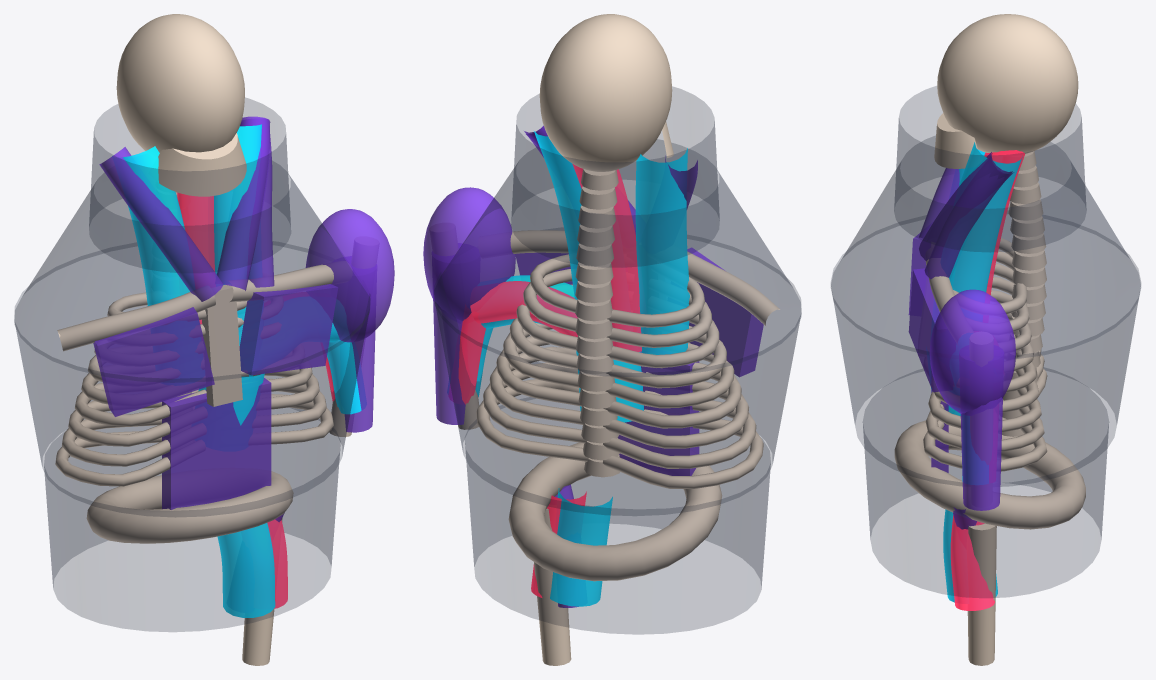
File: atlas_male.glb
The picture shows the model from 3 angles, left to right: view 1: azimuth 30°, elevation 25°; view 2: azimuth 150°, elevation 25°; view 3: azimuth 270°, elevation 25°; orthographic projection. The views are drawn at different scales.
Parts seen in each view (by area): view 1: Skin_Mid_Torso, Skin_Upper_Torso, Skin_Lower_Torso, Skin_Neck, Bone_Cranium, Muscle_Rectus_Abdominis, Bone_Pelvis, Muscle_Pectoralis_Major_Left, Muscle_Deltoid_Right, Muscle_Pectoralis_Major_Right, Muscle_SCM_Left_Sternal, Vessel_Femoral_Vein_Right (+24 smaller); view 2: Skin_Upper_Torso, Skin_Mid_Torso, Skin_Lower_Torso, Skin_Neck, Bone_Cranium, Bone_Pelvis, Muscle_Deltoid_Right, Vessel_IJV_Left, Vessel_Femoral_Vein_Right, Vessel_Carotid_Right, Muscle_Pectoralis_Major_Left, Muscle_Biceps_Right (+44 smaller); view 3: Skin_Mid_Torso, Skin_Upper_Torso, Skin_Lower_Torso, Skin_Neck, Bone_Cranium, Muscle_Deltoid_Right, Bone_Pelvis, Muscle_Biceps_Right, Vessel_IJV_Right, Muscle_SCM_Right_Clavicular, Bone_Femur_Right, Vessel_Femoral_Artery_Right (+19 smaller).
Boxes of the visible parts, left/top/right/bottom form: Skin_Mid_Torso: left=14, top=246, right=370, bottom=517; Skin_Upper_Torso: left=14, top=173, right=369, bottom=382; Skin_Lower_Torso: left=44, top=408, right=340, bottom=631; Skin_Neck: left=89, top=98, right=290, bottom=272; Bone_Cranium: left=116, top=14, right=244, bottom=153; Muscle_Rectus_Abdominis: left=162, top=378, right=271, bottom=509; Bone_Pelvis: left=86, top=471, right=293, bottom=543; Muscle_Pectoralis_Major_Left: left=93, top=307, right=214, bottom=416; Muscle_Deltoid_Right: left=305, top=209, right=394, bottom=342; Muscle_Pectoralis_Major_Right: left=239, top=284, right=337, bottom=375; Muscle_SCM_Left_Sternal: left=99, top=147, right=223, bottom=301; Vessel_Femoral_Vein_Right: left=217, top=523, right=275, bottom=617; Skin_Upper_Torso: left=434, top=139, right=801, bottom=376; Skin_Mid_Torso: left=434, top=243, right=801, bottom=515; Skin_Lower_Torso: left=465, top=397, right=770, bottom=634; Skin_Neck: left=511, top=86, right=719, bottom=266; Bone_Cranium: left=539, top=14, right=672, bottom=171; Bone_Pelvis: left=508, top=442, right=722, bottom=581; Muscle_Deltoid_Right: left=423, top=187, right=515, bottom=321; Vessel_IJV_Left: left=635, top=148, right=689, bottom=354; Vessel_Femoral_Vein_Right: left=550, top=488, right=612, bottom=606; Vessel_Carotid_Right: left=572, top=164, right=641, bottom=351; Muscle_Pectoralis_Major_Left: left=687, top=247, right=763, bottom=377; Muscle_Biceps_Right: left=433, top=299, right=465, bottom=424; Skin_Mid_Torso: left=831, top=225, right=1140, bottom=486; Skin_Upper_Torso: left=831, top=136, right=1140, bottom=358; Skin_Lower_Torso: left=863, top=368, right=1108, bottom=597; Skin_Neck: left=894, top=86, right=1086, bottom=251; Bone_Cranium: left=937, top=14, right=1078, bottom=153; Muscle_Deltoid_Right: left=929, top=289, right=1015, bottom=413; Bone_Pelvis: left=894, top=420, right=1085, bottom=529; Muscle_Biceps_Right: left=960, top=397, right=1002, bottom=510; Vessel_IJV_Right: left=949, top=142, right=1022, bottom=292; Muscle_SCM_Right_Clavicular: left=924, top=153, right=1012, bottom=278; Bone_Femur_Right: left=967, top=523, right=996, bottom=665; Vessel_Femoral_Artery_Right: left=950, top=515, right=994, bottom=610.
Size of the model in its own units: 87.52 by 155 by 71.22.
